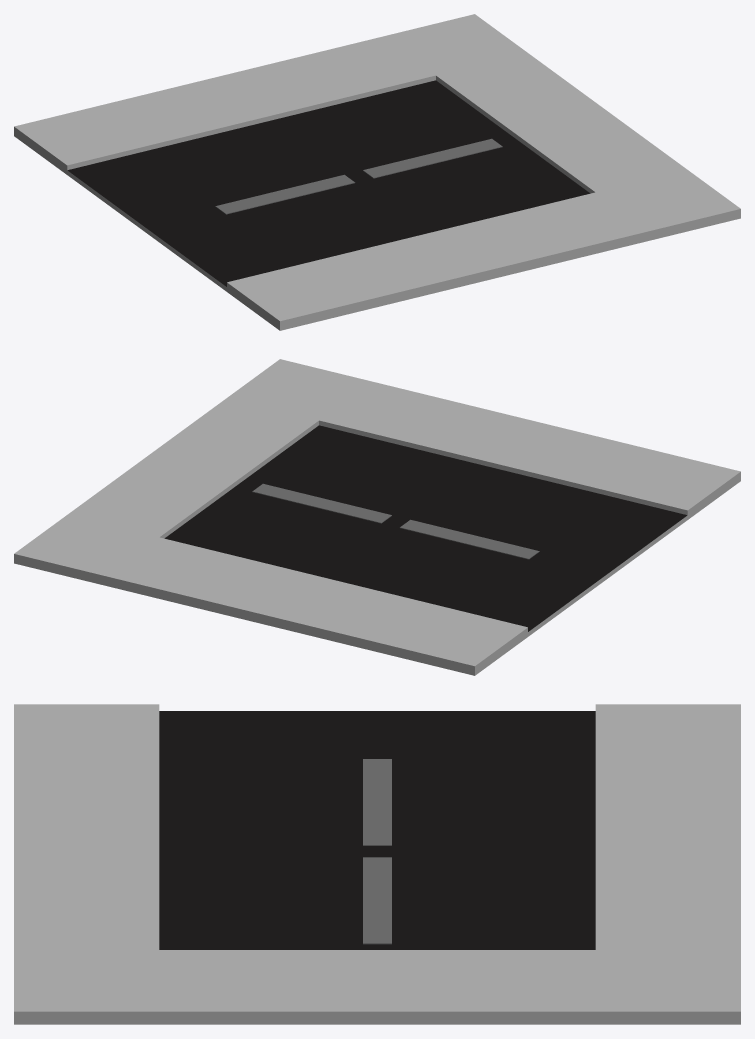
Rendered from Env_Road_End_01.fbx.
3 views of the same model, one above another, from view 1: azimuth 30°, elevation 25°; view 2: azimuth 150°, elevation 25°; view 3: azimuth 270°, elevation 25° (orthographic). The views are drawn at different scales.
Parts seen in each view (by area): view 1: Env_Road_End_01; view 2: Env_Road_End_01; view 3: Env_Road_End_01.
Boxes of the visible parts, bbox=[...] form: Env_Road_End_01: bbox=[14, 14, 740, 330]; Env_Road_End_01: bbox=[14, 359, 740, 675]; Env_Road_End_01: bbox=[14, 704, 740, 1024].
Size of the model in its own units: 1000 by 20 by 1000.
